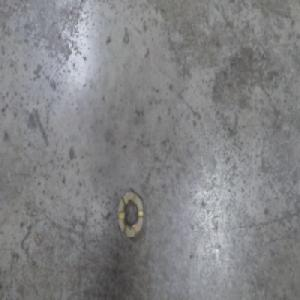Nut: (116, 185, 145, 241)
